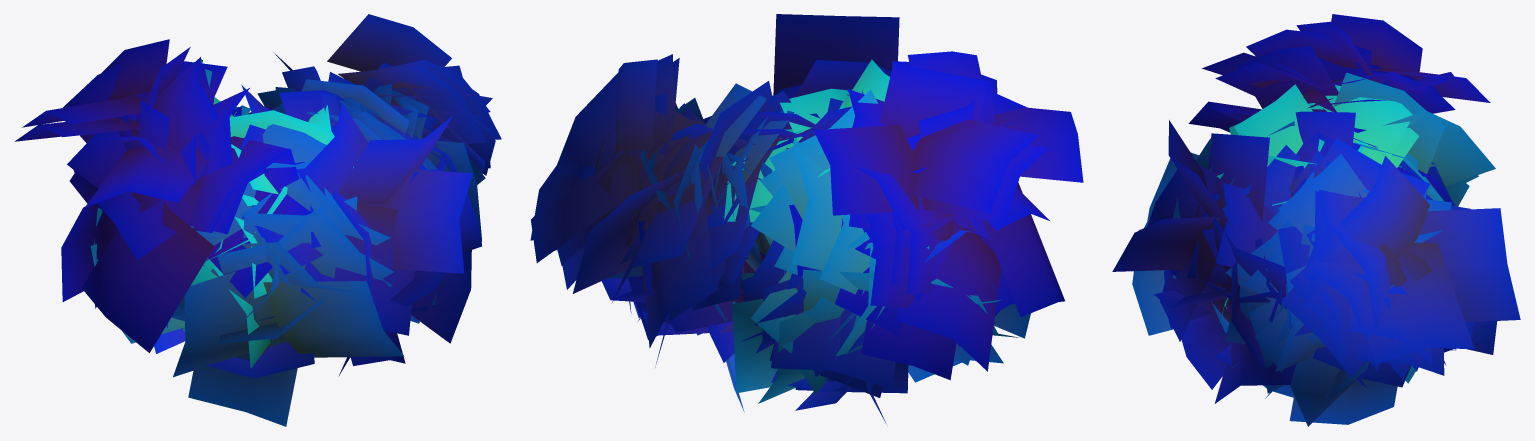
The model's file is SM_Bush_Hawthorn_A_LOD1.fbx.
3 renders of one model, left to right at view 1: azimuth 30°, elevation 25°; view 2: azimuth 150°, elevation 25°; view 3: azimuth 270°, elevation 25°, orthographic. The views are drawn at different scales.
Visible parts, largest first — view 1: SM_Bush_Hawthorn_A_LOD1; view 2: SM_Bush_Hawthorn_A_LOD1; view 3: SM_Bush_Hawthorn_A_LOD1.
Part boxes in pixels (left/top/right/bottom): SM_Bush_Hawthorn_A_LOD1: left=15, top=14, right=501, bottom=426; SM_Bush_Hawthorn_A_LOD1: left=530, top=14, right=1083, bottom=424; SM_Bush_Hawthorn_A_LOD1: left=1112, top=14, right=1520, bottom=426.
Bounding box in the file's own units: 1.33 × 0.9846 × 1.09.
